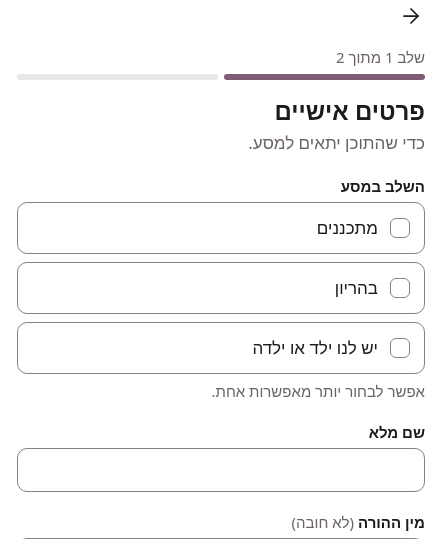
Test: F1.3 criterion 8 [FR-REG-002 · FR-REG-003 · VAL-040 · AC-090] children cards › [VAL-040][AC-090] a remove button of an unnamed card is named by its position
This screenshot has width=443, height=539.
Click the checkbox labelled "יש לנו ילד או ילדה": (315, 348) [17, 322, 425, 374]
(page scrolled)
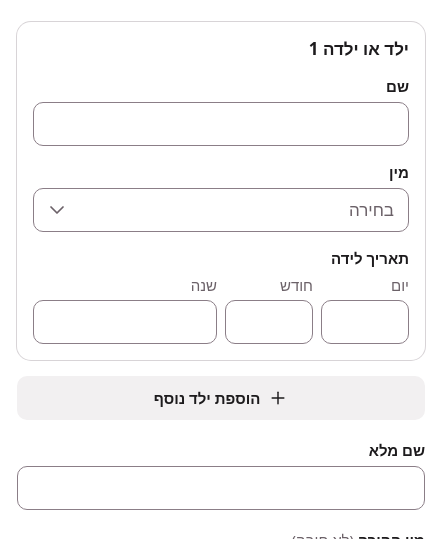
Click the button "הוספת ילד נוסף": (221, 398) [17, 376, 425, 420]
(page scrolled)
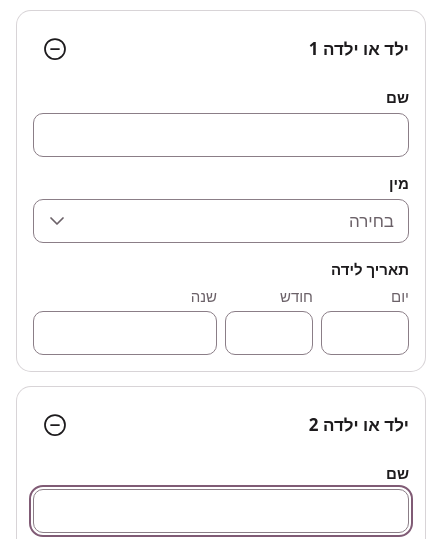
Now the button named "הסרת הפרטים של ילד או ילדה 1" is shown, box [33, 27, 77, 71]
Now the button named "הסרת הפרטים של ילד או ילדה 2" is shown, box [33, 403, 77, 447]
